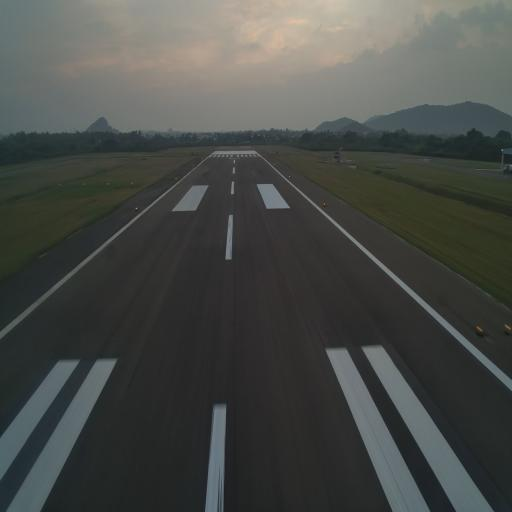on: (504, 319, 512, 338), (474, 319, 482, 337)
